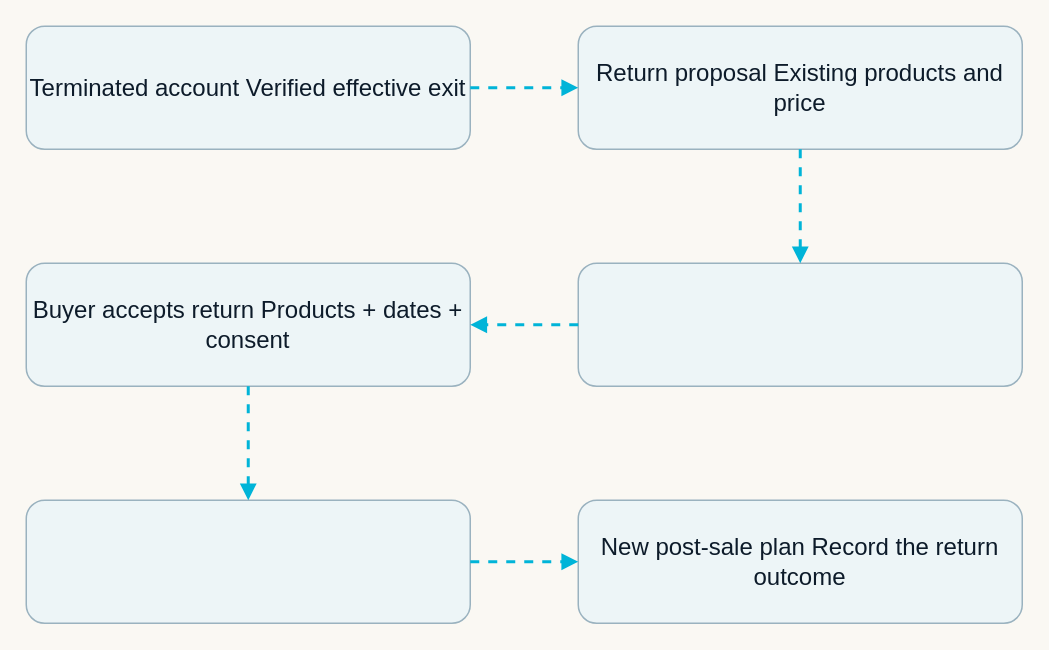
Image size: 1049x650. Some labels were removed from this diagram. Here are the shapes that lost their labels. From the top down, the box of each, then its label:
(577, 262, 1022, 386): Deal Desk review Current return terms
(25, 499, 470, 623): Reconcile both targets Verify billing and access
